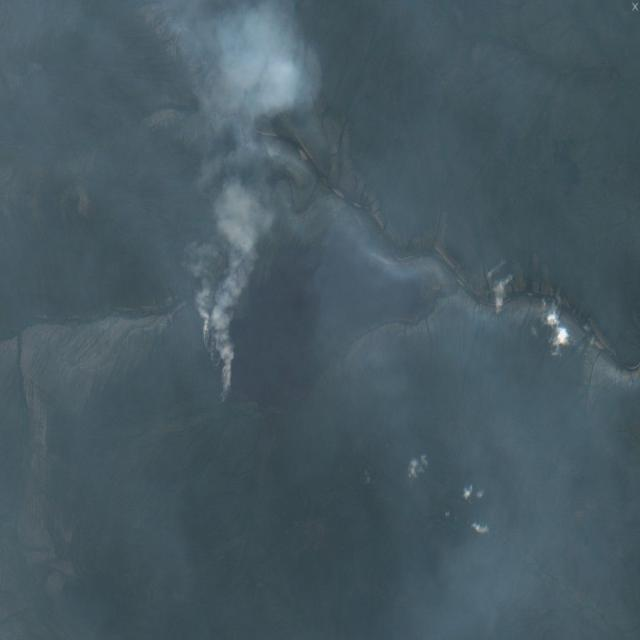fire: (197, 236, 263, 412)
